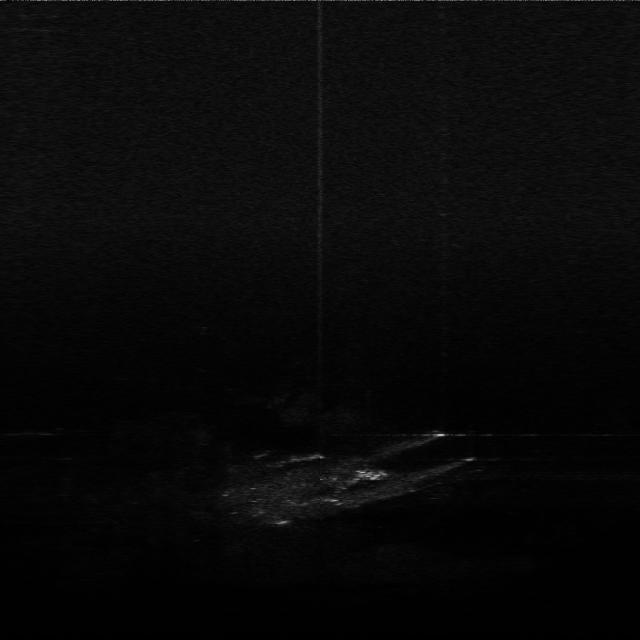rov: (351, 466, 387, 483)
